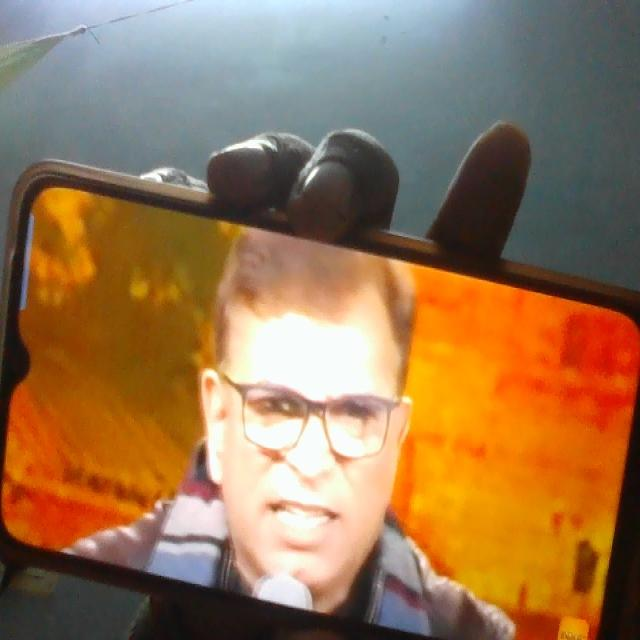fake: (197, 202, 417, 618)
